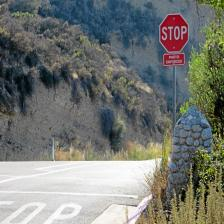Stop-sign: (157, 7, 192, 69)
